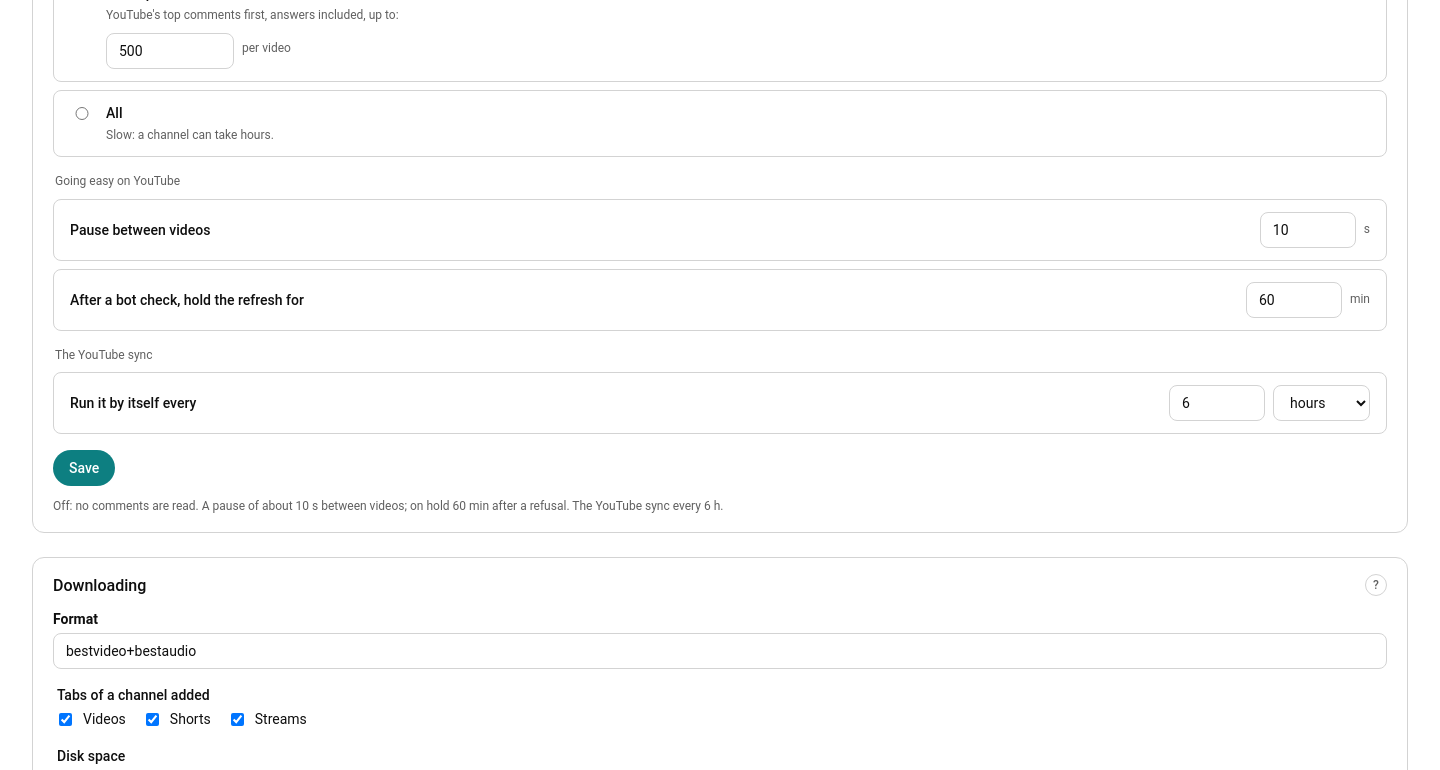
it: YouTubePage › runs the YouTube sync every few minutes or hours, or on demand only at 0, checked first
(page scrolled)
Expected: the text "The YouTube sync every 6 h." is shown, [53,499,723,513]
Expected: the dropdown named "Unit" shows "hours", [1273,385,1370,421]
Step 1. Replace the text in the number field labelled "Run it by itself every" with "169" → (1217, 403), box [1169,385,1265,421]
Step 2. Click the button "Save" → (84, 468), box [53,450,115,486]
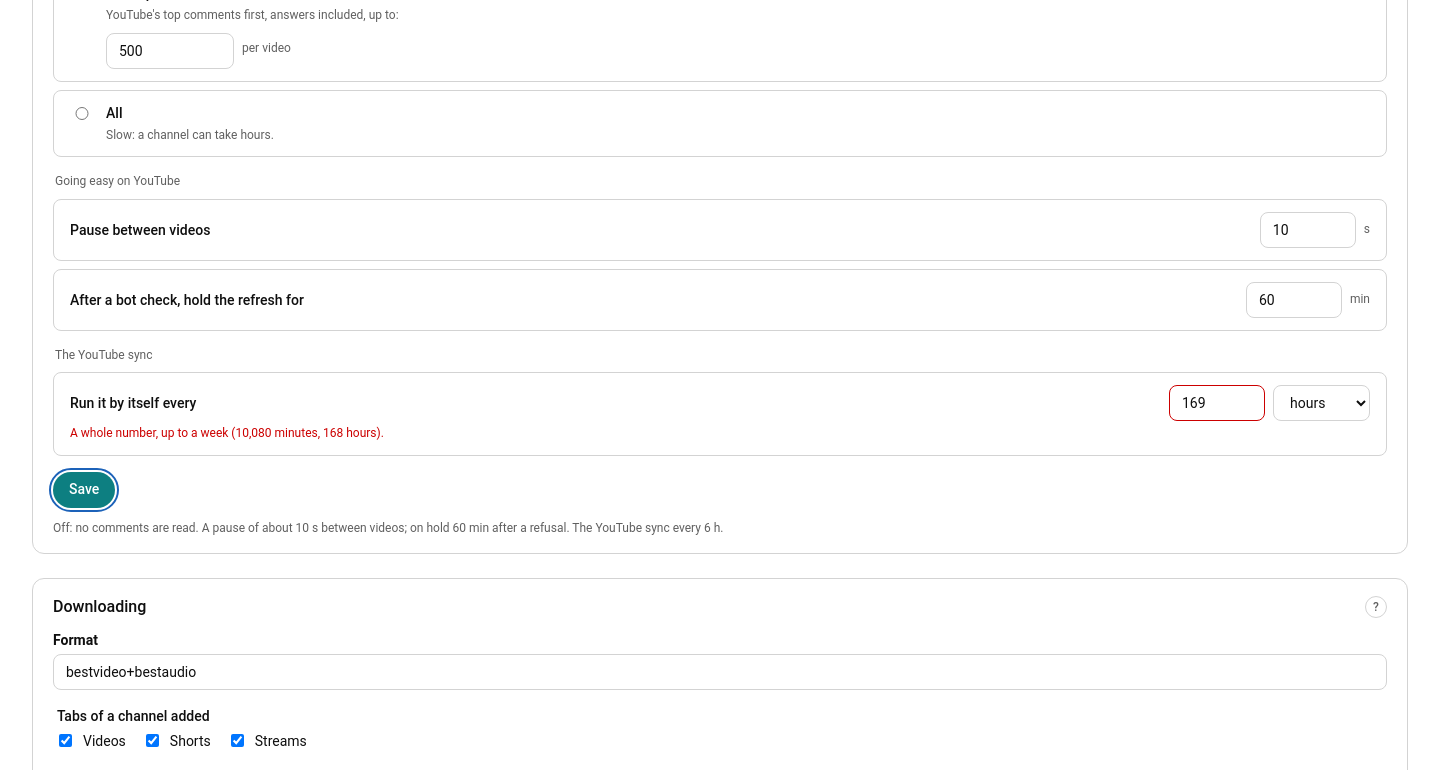
Now the message shows "A whole number, up to a week", box [70,426,384,440]
Step 3. Replace the text in the number field labelled "Run it by itself every" with "15" → (1217, 403), box [1169,385,1265,421]
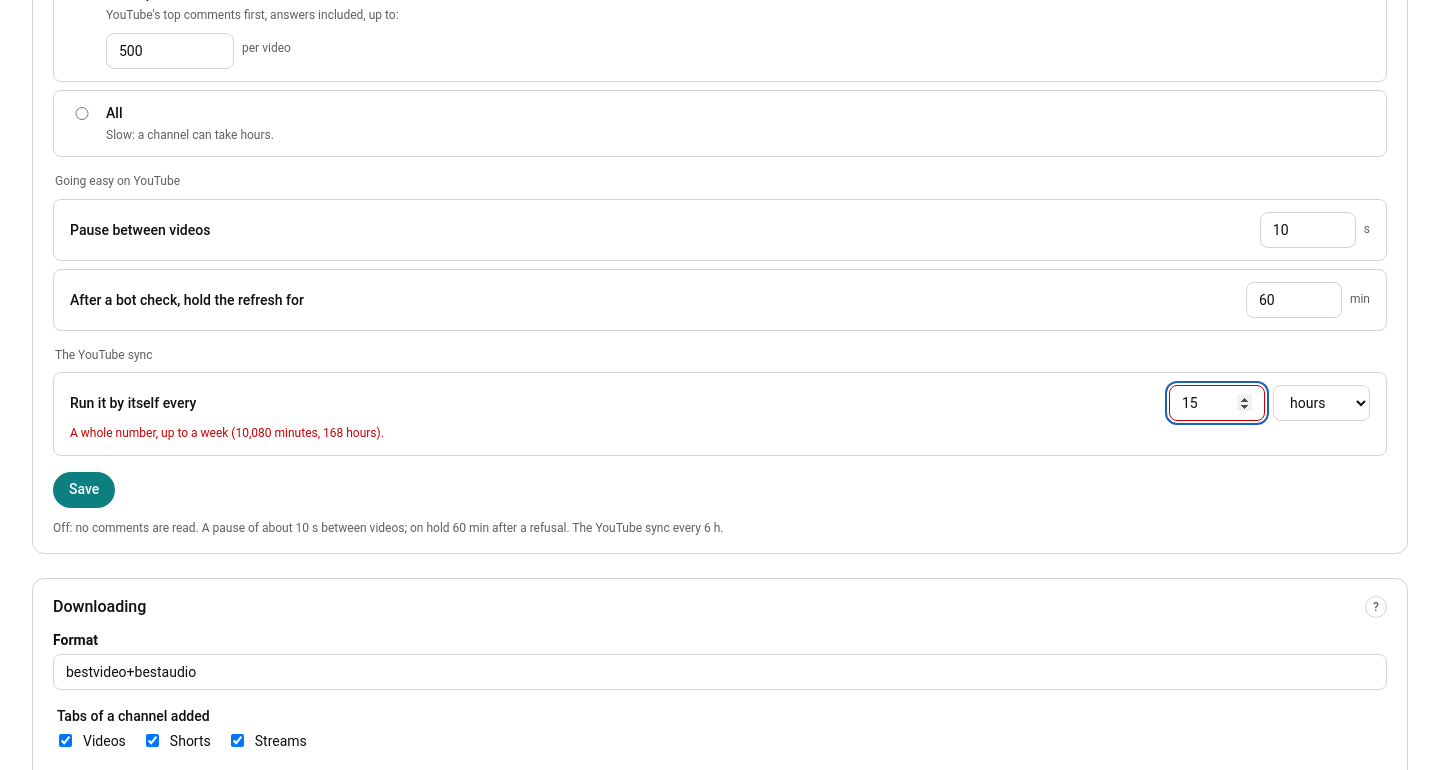
Step 4. Select "minutes" in the dropdown named "Unit" → (1322, 403), box [1273,385,1370,421]
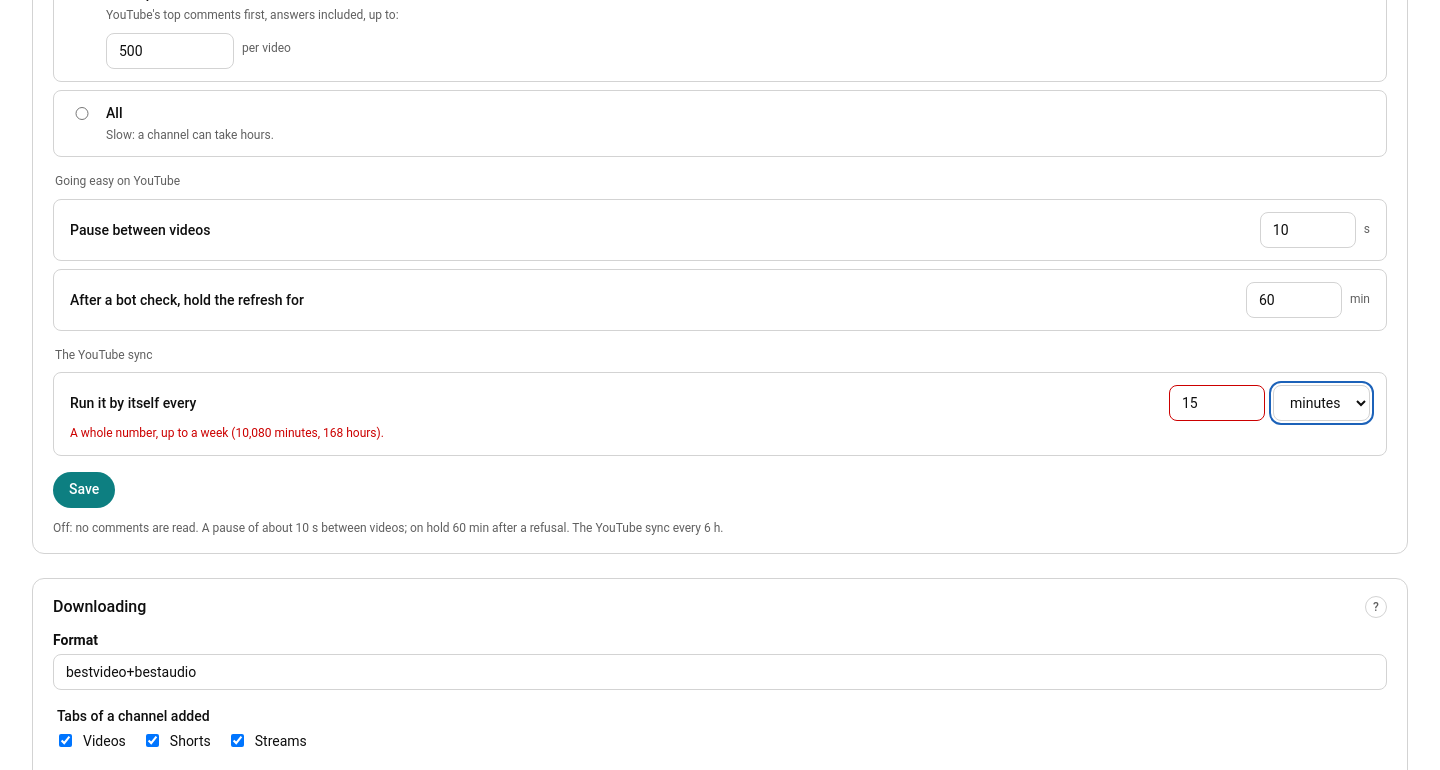
Step 5. Click the button "Save" → (84, 490), box [53,472,115,508]
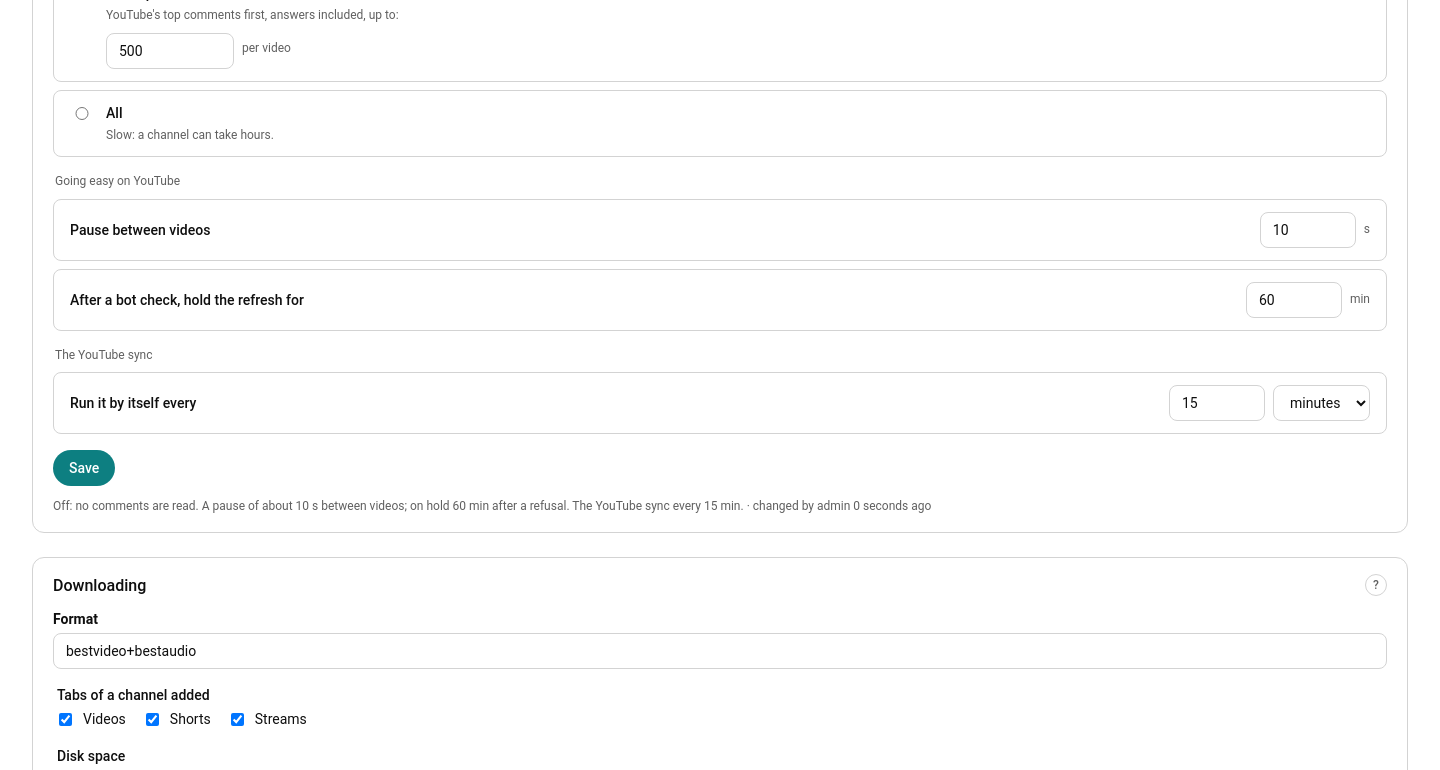
Now the text "The YouTube sync every 15 min." is shown, box [53,499,747,513]
Step 6. Replace the text in the number field labelled "Run it by itself every" with "0" → (1217, 403), box [1169,385,1265,421]
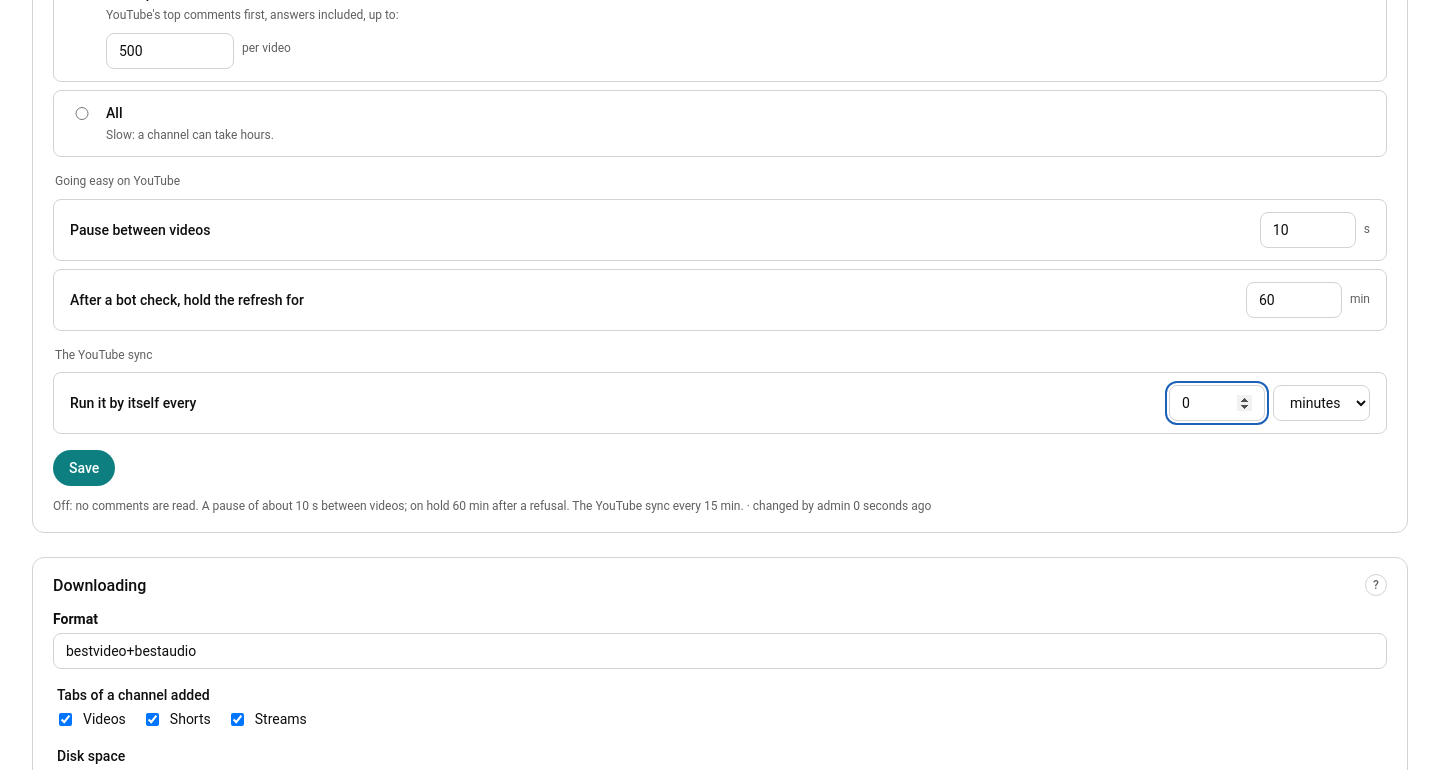
Step 7. Click the button "Save" → (84, 468), box [53,450,115,486]
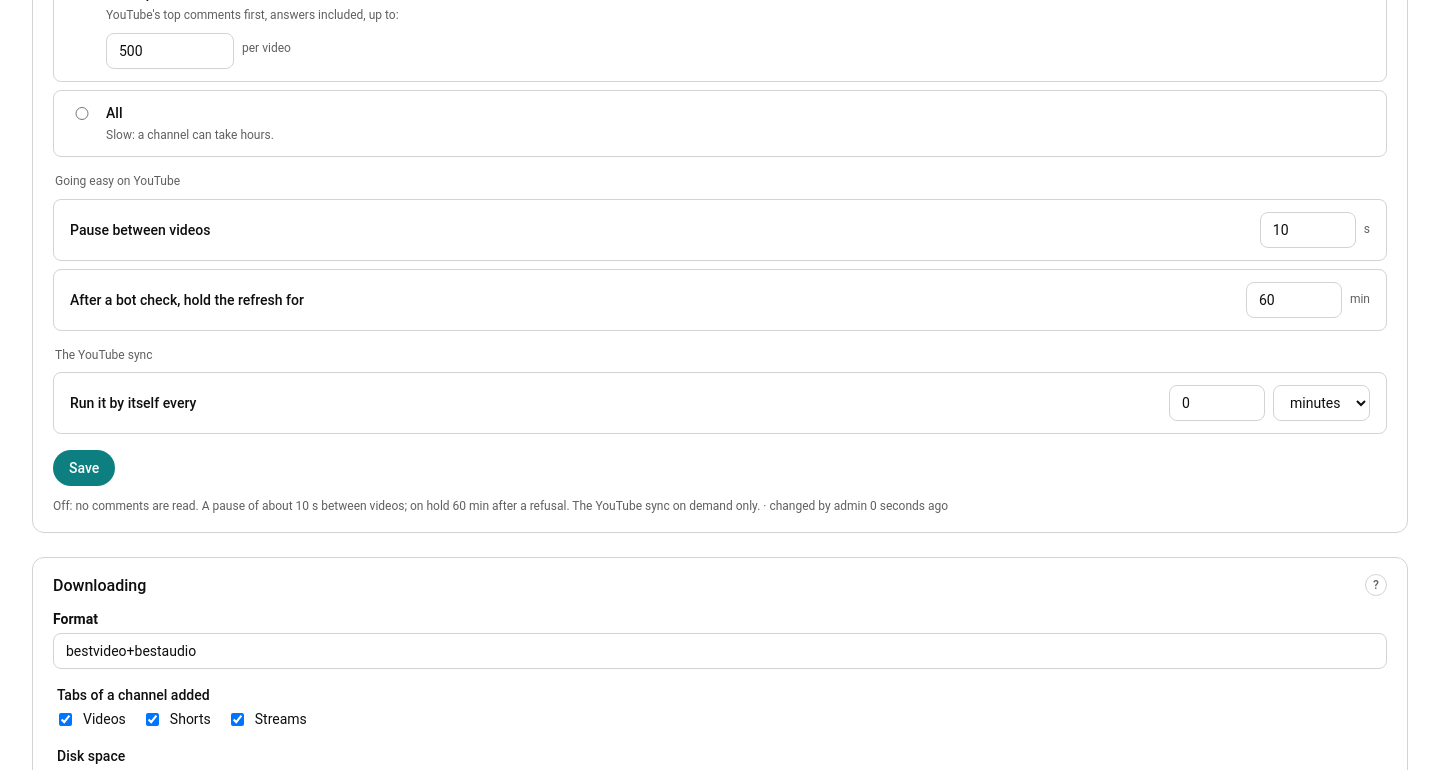
Now the text "The YouTube sync on demand only." is shown, box [53,499,763,513]
